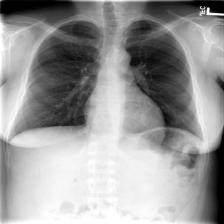normal: (5, 18, 209, 151)
